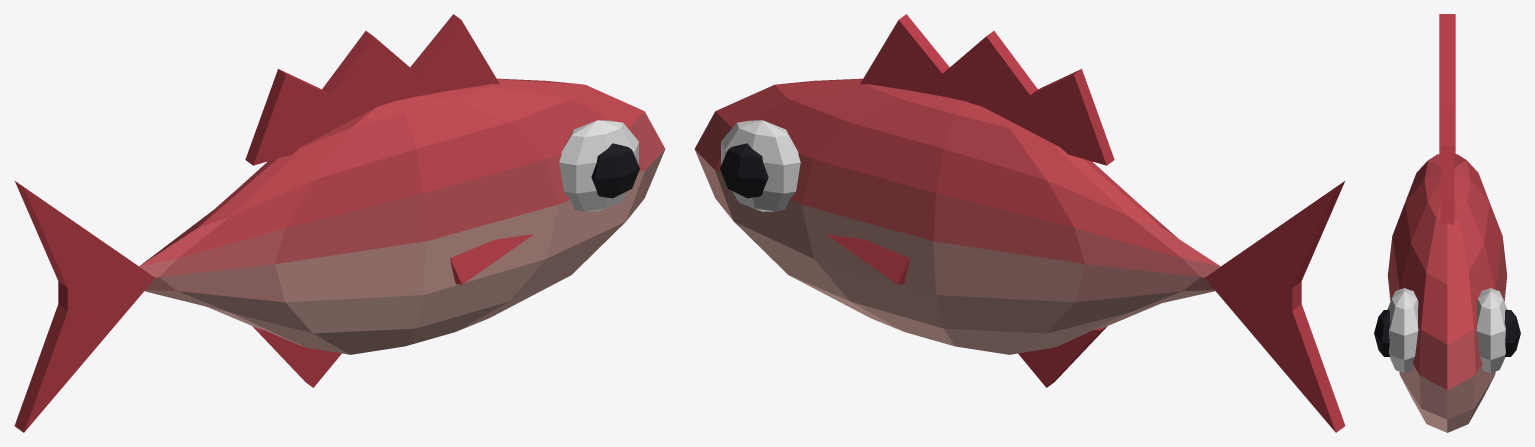
File: fish-red-snapper.glb
The picture shows the model from 3 angles, left to right: view 1: azimuth 30°, elevation 25°; view 2: azimuth 150°, elevation 25°; view 3: azimuth 270°, elevation 25°; orthographic projection. The views are drawn at different scales.
Parts seen in each view (by area): view 1: fish-red-snapper; view 2: fish-red-snapper; view 3: fish-red-snapper.
Part boxes in pixels (<box>): fish-red-snapper: <box>14,14,665,432</box>; fish-red-snapper: <box>694,14,1345,432</box>; fish-red-snapper: <box>1374,14,1520,432</box>.
Bounding box in the file's own units: 1.18 × 0.588 × 0.2704.
